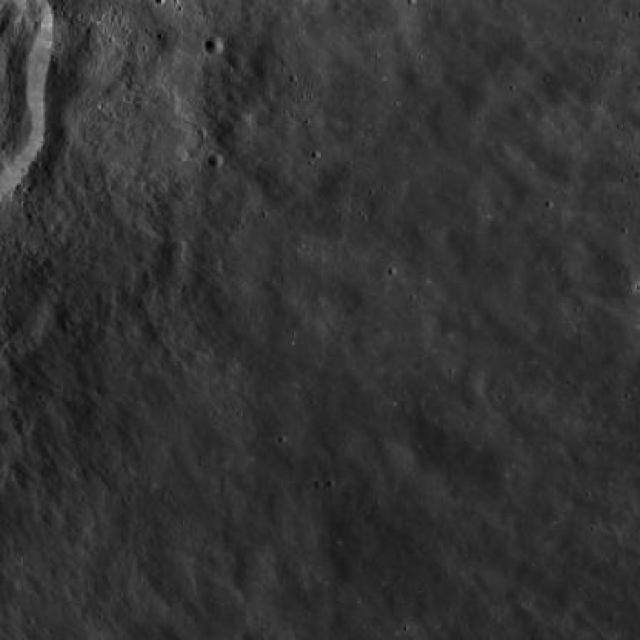crater: (229, 544, 280, 594), (549, 584, 580, 616), (454, 366, 484, 397), (282, 556, 308, 582), (511, 597, 537, 623), (525, 621, 548, 640), (206, 39, 226, 59), (209, 156, 226, 172)
